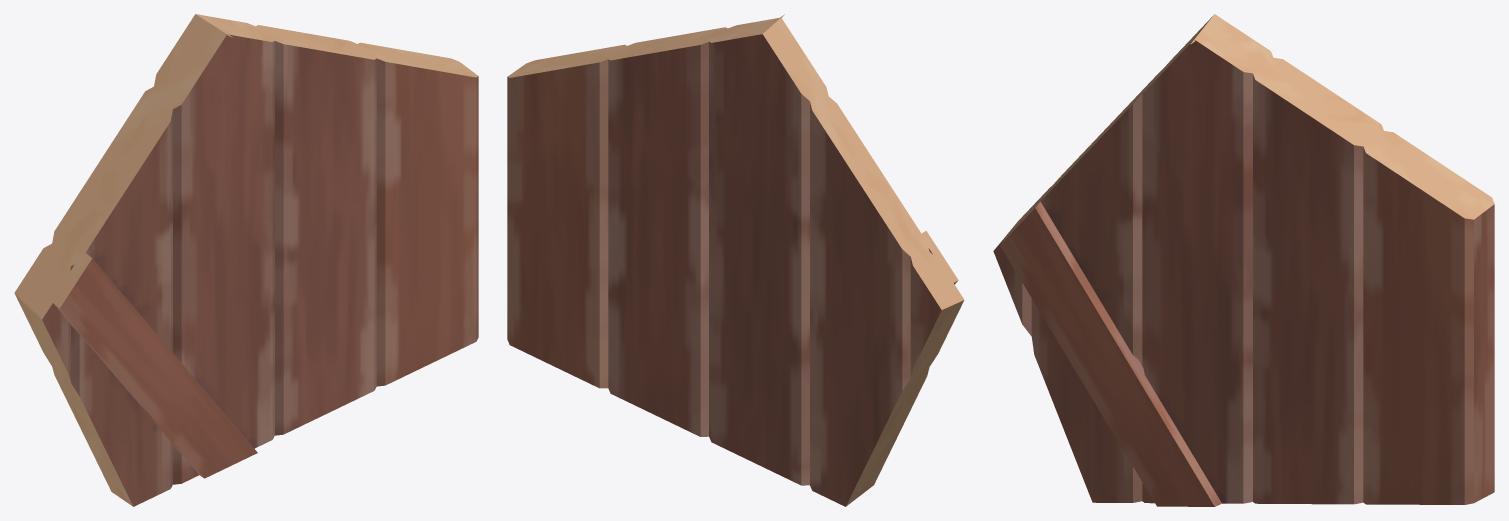
File: door_s02.fbx
The picture shows the model from 3 angles, left to right: view 1: azimuth 30°, elevation 25°; view 2: azimuth 150°, elevation 25°; view 3: azimuth 330°, elevation 25°; orthographic projection. The views are drawn at different scales.
Visible parts, largest first — view 1: door_s02; view 2: door_s02; view 3: door_s02.
Boxes of the visible parts, <box> form: door_s02: <box>14,14,478,506</box>; door_s02: <box>507,14,964,506</box>; door_s02: <box>993,14,1494,506</box>.
Size of the model in its own units: 2.82 by 2.79 by 0.345.
